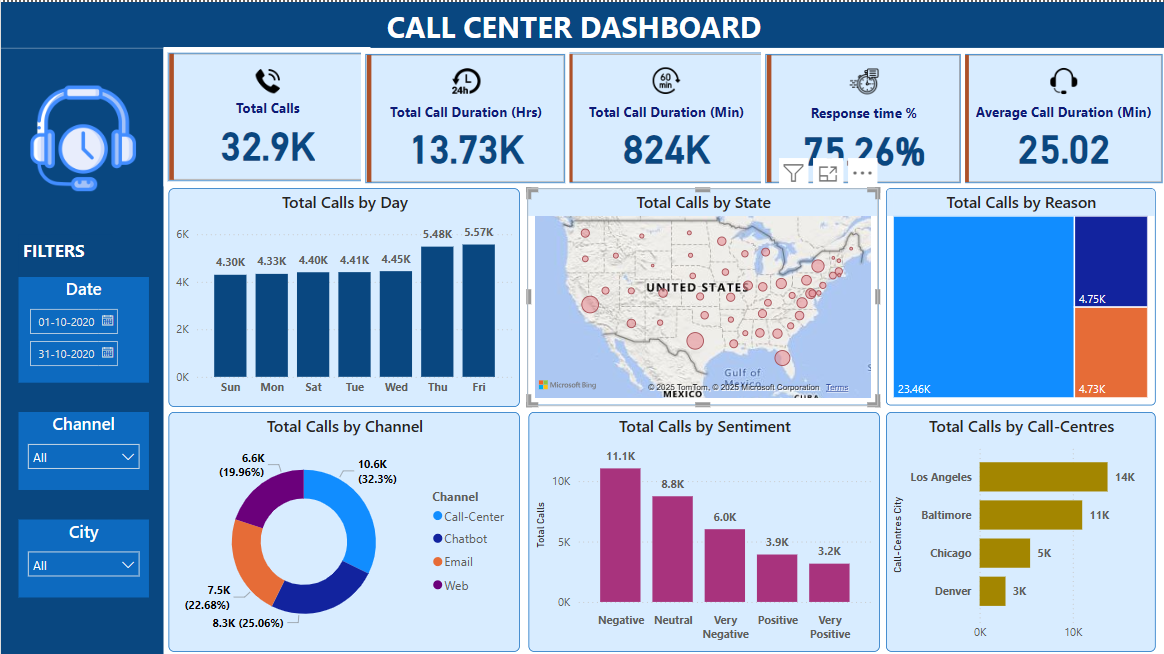

This screenshot's page, from the dashboard's own definition file:
{"tool":"powerbi","page":{"name":"Page 1","canvas":[1280,720],"ordinal":0},"visuals":[{"type":"shape","box":[0,0,1280,50.8],"z":0},{"type":"shape","box":[0,51.4,178.6,668.6],"z":1000},{"type":"cardVisual","fields":{"Data":["Call Center_Call Center.Total Calls"]},"box":[178.6,50,227.1,152.9],"z":2000},{"type":"cardVisual","fields":{"Data":["Sum(Call Center_Call Center.Call Duration In Minutes)"]},"box":[616.3,50.8,227,153.7],"z":3000},{"type":"cardVisual","fields":{"Data":["Sum(Call Center_Call Center.Duration  in HRS)"]},"box":[395.1,50.8,229.2,153.7],"z":4000},{"type":"cardVisual","fields":{"Data":["Avg(Call Center_Call Center.Call Duration In Minutes)"]},"box":[1051.1,50.8,229.2,153.7],"z":5000},{"type":"cardVisual","fields":{"Data":["Call Center_Call Center.Response time %"]},"box":[834.3,50.8,224,153.7],"z":6000},{"type":"textbox","box":[418.5,0,441.9,64.5],"z":7000},{"type":"columnChart","fields":{"Category":["Date Table.Day"],"Y":["Call Center_Call Center.Total Calls"]},"box":[183.9,204.5,385.6,240.1],"z":8000},{"type":"map","fields":{"Category":["Call Center_Call Center.State"],"Size":["Call Center_Call Center.Total Calls"]},"box":[577.1,204.3,385.7,238.6],"z":9000},{"type":"treemap","fields":{"Group":["Call Center_Call Center.Reason"],"Values":["Call Center_Call Center.Total Calls"]},"box":[971.4,204.3,295.7,238.6],"z":10000},{"type":"donutChart","fields":{"Category":["Call Center_Call Center.Channel"],"Y":["Call Center_Call Center.Total Calls"]},"box":[184.3,450,385.7,262.9],"z":11000},{"type":"columnChart","fields":{"Category":["Call Center_Call Center.Sentiment"],"Y":["Call Center_Call Center.Total Calls"]},"box":[578.6,450,385.7,262.9],"z":12000},{"type":"barChart","title":"Total Calls by Call-Centres","fields":{"Category":["Call Center_Call Center.Call-Centres City"],"Y":["Call Center_Call Center.Total Calls"]},"box":[971,450,296,263],"z":13000},{"type":"slicer","title":"Date","fields":{"Values":["Date Table.Date"]},"box":[18.6,301.4,142.9,115.7],"z":14000},{"type":"slicer","title":"Channel","fields":{"Values":["Call Center_Call Center.Channel"]},"box":[18.6,450,142.9,85.7],"z":15000},{"type":"slicer","title":"City","fields":{"Values":["Call Center_Call Center.City"]},"box":[18.6,568.6,142.9,85.7],"z":16000},{"type":"image","box":[27.1,84.3,125.7,131.4],"z":17000},{"type":"textbox","box":[19.2,255.2,102.9,46.7],"z":18000}]}

Visuals, with their boxes in screenshot pixels (x1, y1, x2, y2), scaled from the page's 1280x720 canvas onto the 1164x654 screenshot:
shape: [0, 0, 1163, 46]
shape: [0, 47, 162, 653]
cardVisual - Call Center_Call Center.Total Calls: [162, 45, 369, 184]
cardVisual - Sum(Call Center_Call Center.Call Duration In Minutes): [560, 46, 767, 186]
cardVisual - Sum(Call Center_Call Center.Duration  in HRS): [359, 46, 568, 186]
cardVisual - Avg(Call Center_Call Center.Call Duration In Minutes): [956, 46, 1163, 186]
cardVisual - Call Center_Call Center.Response time %: [759, 46, 962, 186]
textbox: [381, 0, 782, 59]
columnChart - Date Table.Day x Call Center_Call Center.Total Calls: [167, 186, 518, 404]
map - Call Center_Call Center.State x Call Center_Call Center.Total Calls: [525, 186, 876, 402]
treemap - Call Center_Call Center.Reason x Call Center_Call Center.Total Calls: [883, 186, 1152, 402]
donutChart - Call Center_Call Center.Channel x Call Center_Call Center.Total Calls: [168, 409, 518, 648]
columnChart - Call Center_Call Center.Sentiment x Call Center_Call Center.Total Calls: [526, 409, 877, 648]
"Total Calls by Call-Centres" barChart: [883, 409, 1152, 648]
"Date" slicer: [17, 274, 147, 379]
"Channel" slicer: [17, 409, 147, 487]
"City" slicer: [17, 516, 147, 594]
image: [25, 77, 139, 196]
textbox: [17, 232, 111, 274]
